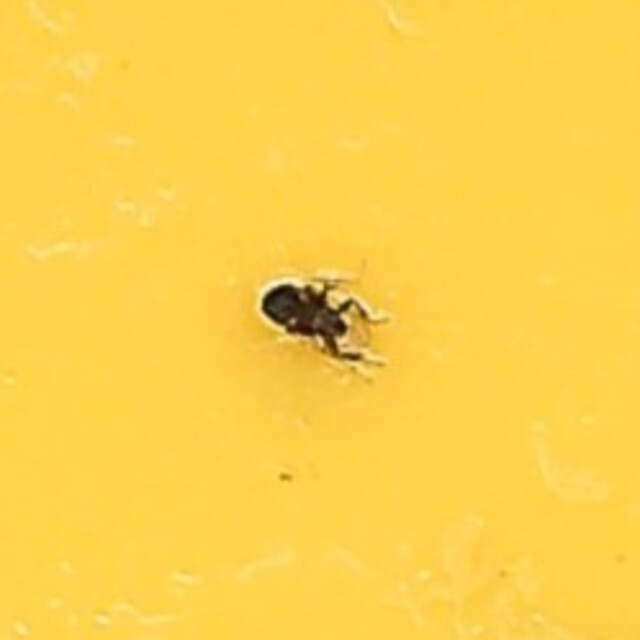Brachycera: (257, 271, 383, 369)
